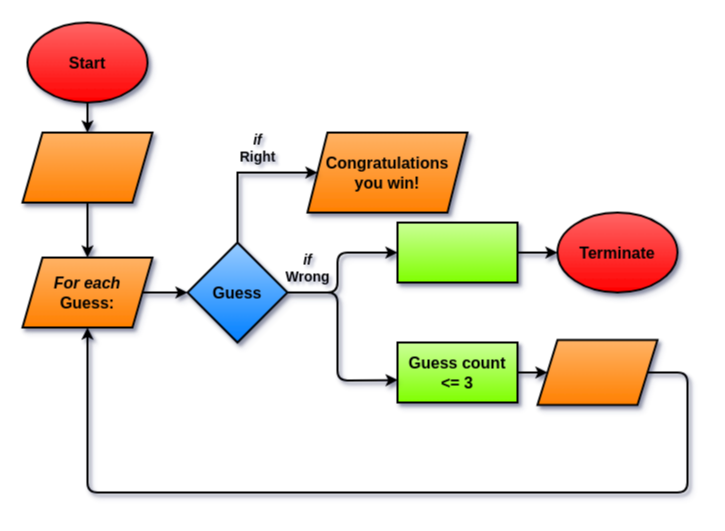
Some shapes in this 725 by 531 pixel diagram are drawn without their labels. Each missing label, with the centre of its shape:
Choose a Pin: (x=88, y=168)
Guess Count >3: (x=458, y=253)
Sorry try it again: (x=598, y=373)
